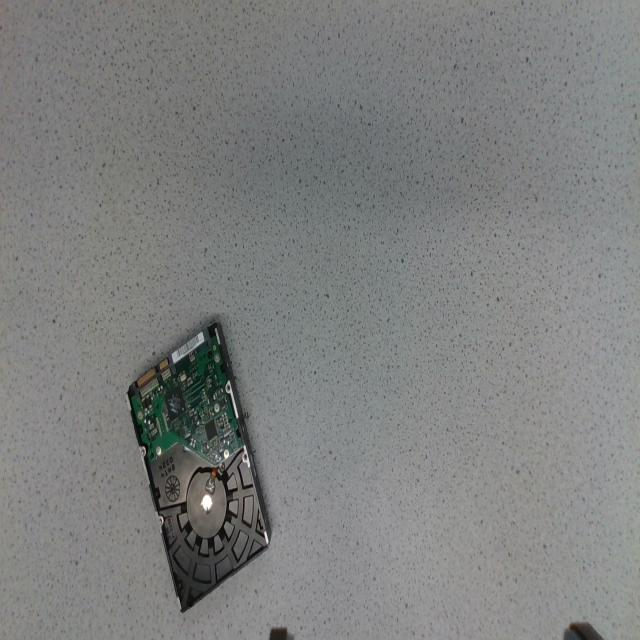case: (126, 323, 268, 610)
pcb: (131, 336, 243, 468)
screw: (136, 410, 144, 420), (156, 445, 162, 455), (224, 449, 230, 459), (214, 403, 220, 412), (214, 353, 220, 362)
